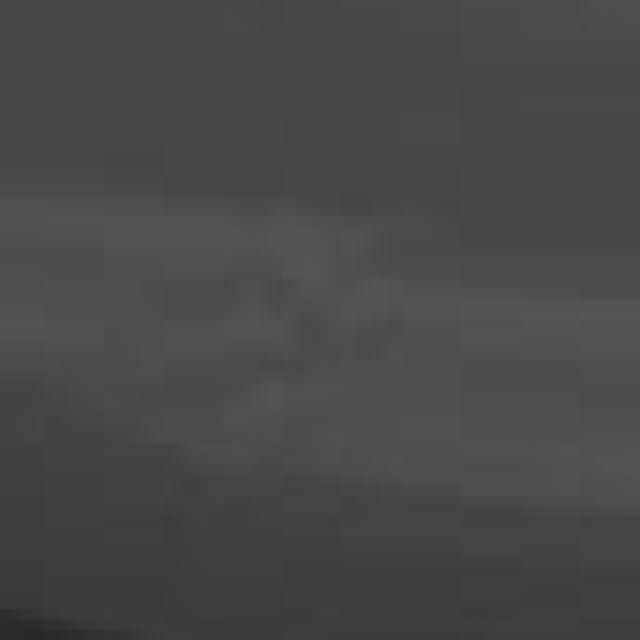fracture: (5, 6, 640, 640)
